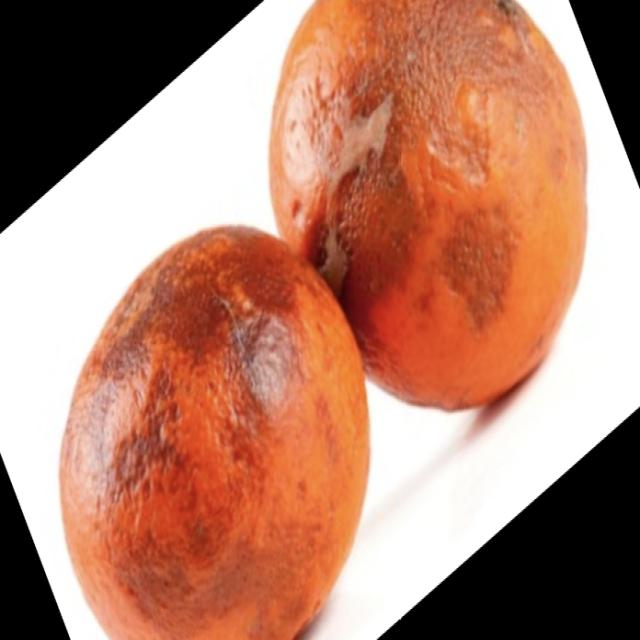sedikit_busuk: (265, 0, 589, 410), (61, 230, 369, 640)
